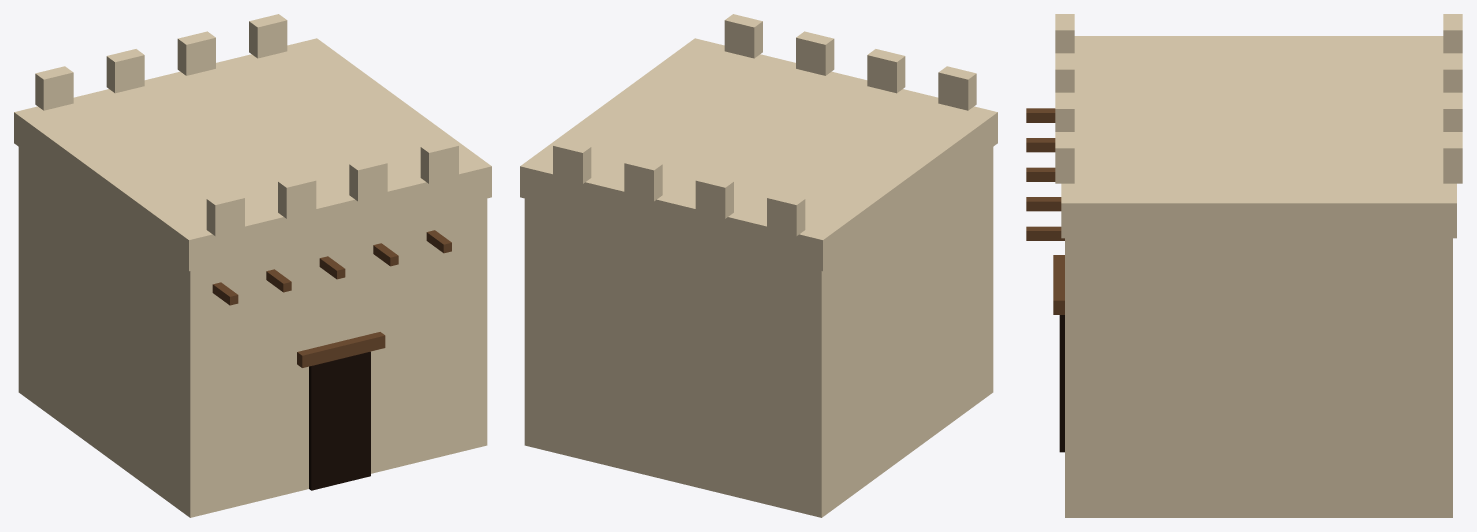
Rendered from house_a.glb.
3 renders of one model, left to right at view 1: azimuth 30°, elevation 25°; view 2: azimuth 150°, elevation 25°; view 3: azimuth 270°, elevation 25°, orthographic. The views are drawn at different scales.
Visible parts, largest first — view 1: House; view 2: House; view 3: House.
Part boxes in pixels (x1,y1,x2,y2): House: (14,14,491,517); House: (520,14,997,517); House: (1026,14,1462,517).
Size of the model in its own units: 5.1 by 5 by 5.62.
